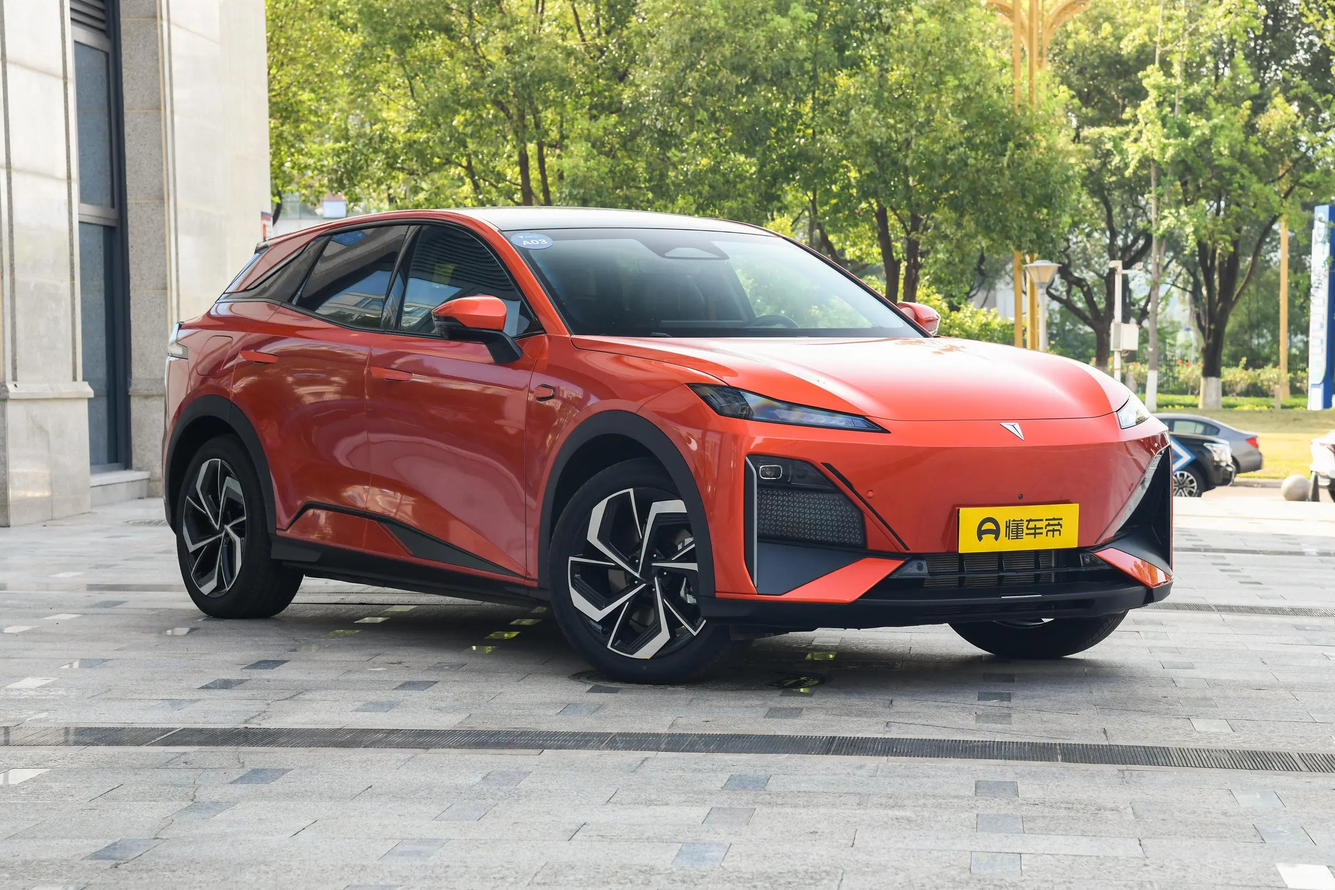Deepal: (1000, 422, 1024, 440)
